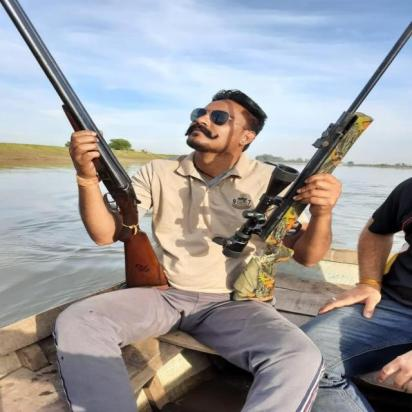Gun: (221, 21, 411, 303), (0, 0, 171, 290)
